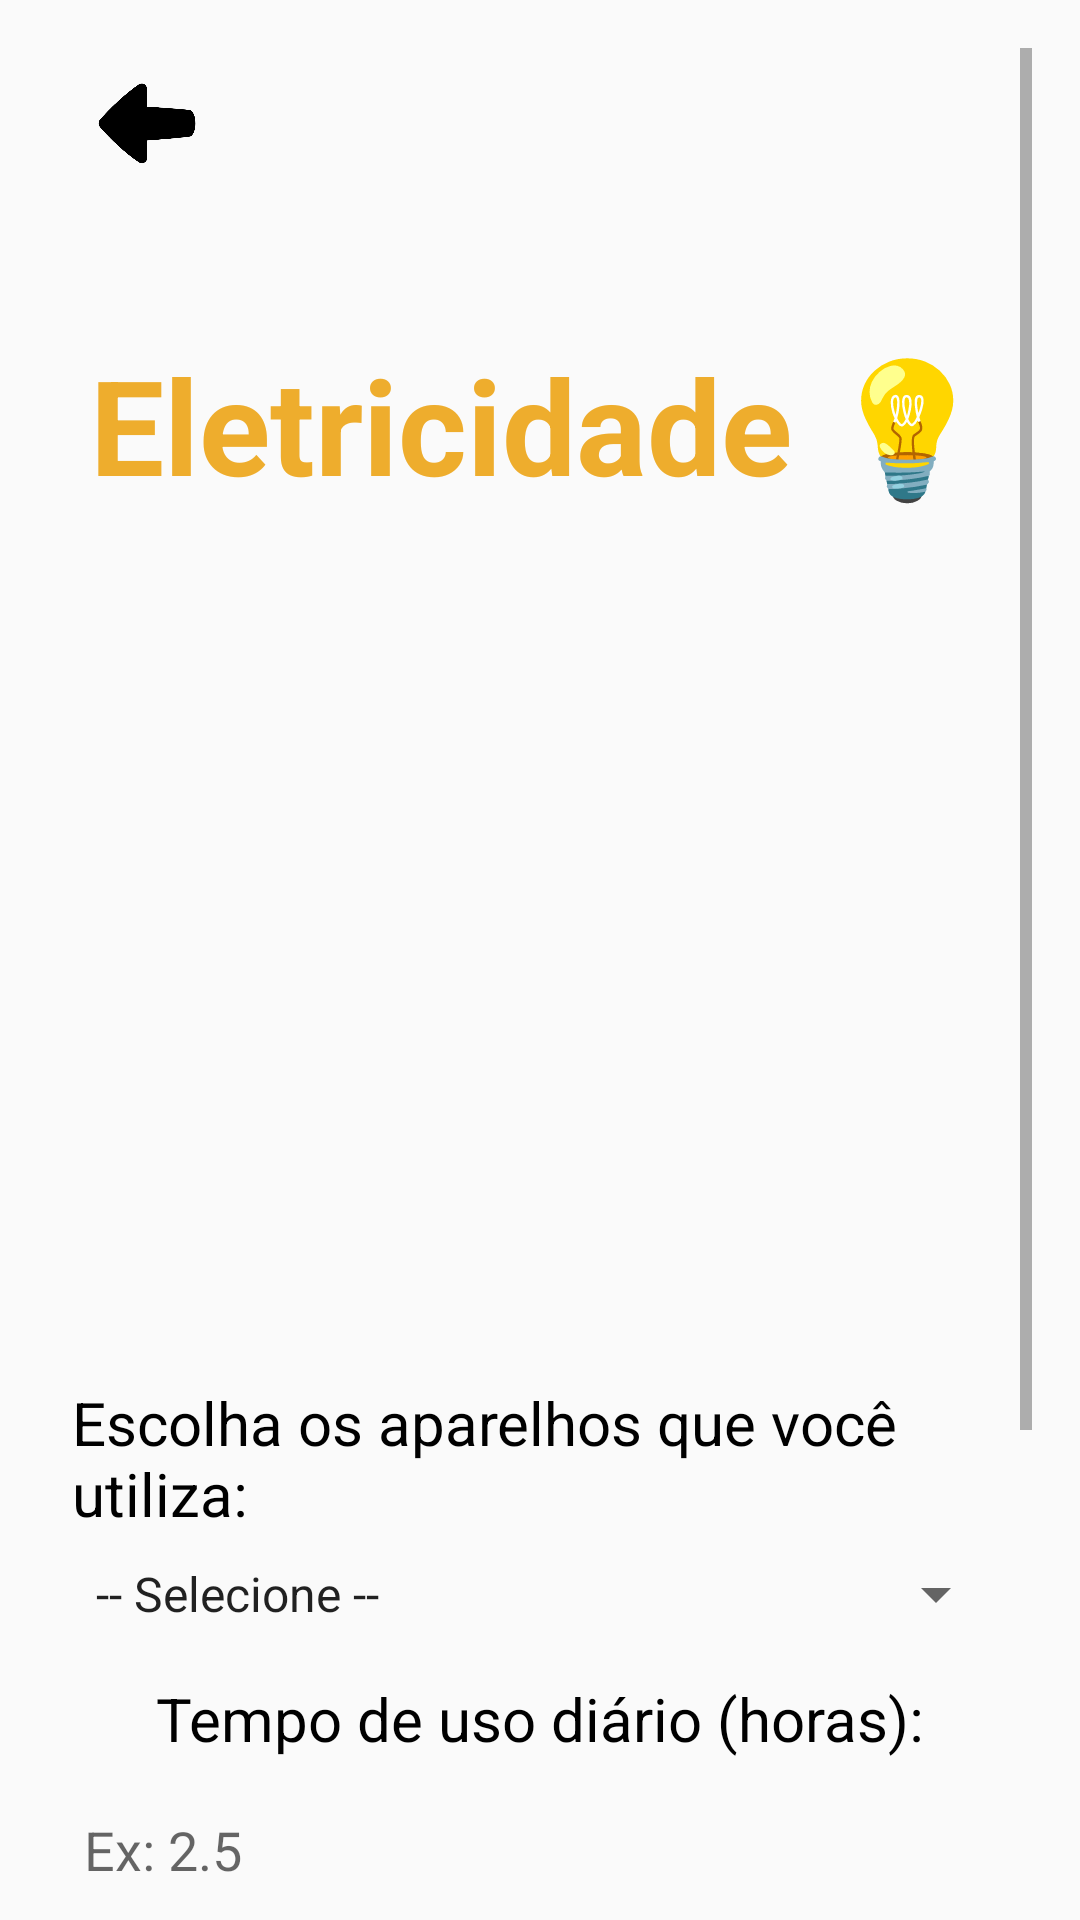

Named icons in this screenshot (1080x1920) and their bounding boxes, (x1, y1, x2, y2):
Voltar: (98, 83, 196, 163)
